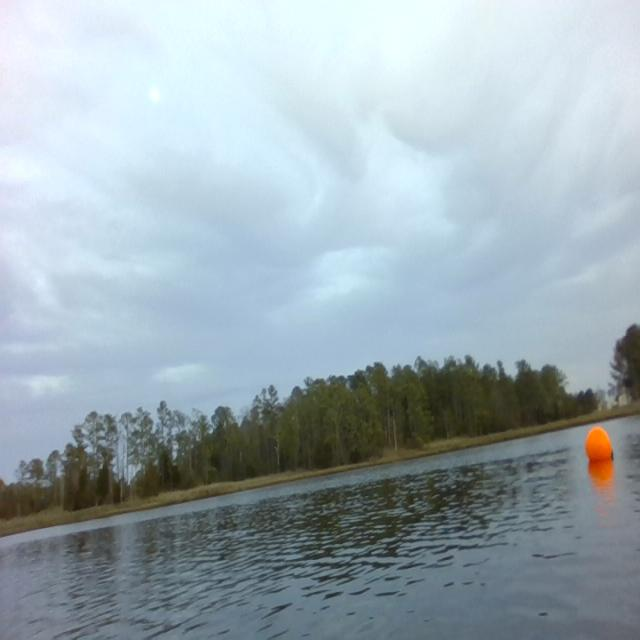Buoy: (586, 424, 613, 471)
